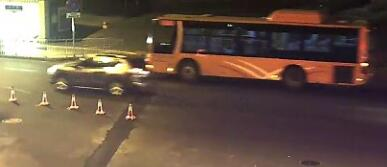bus: (143, 9, 382, 87)
car: (47, 51, 150, 95)
